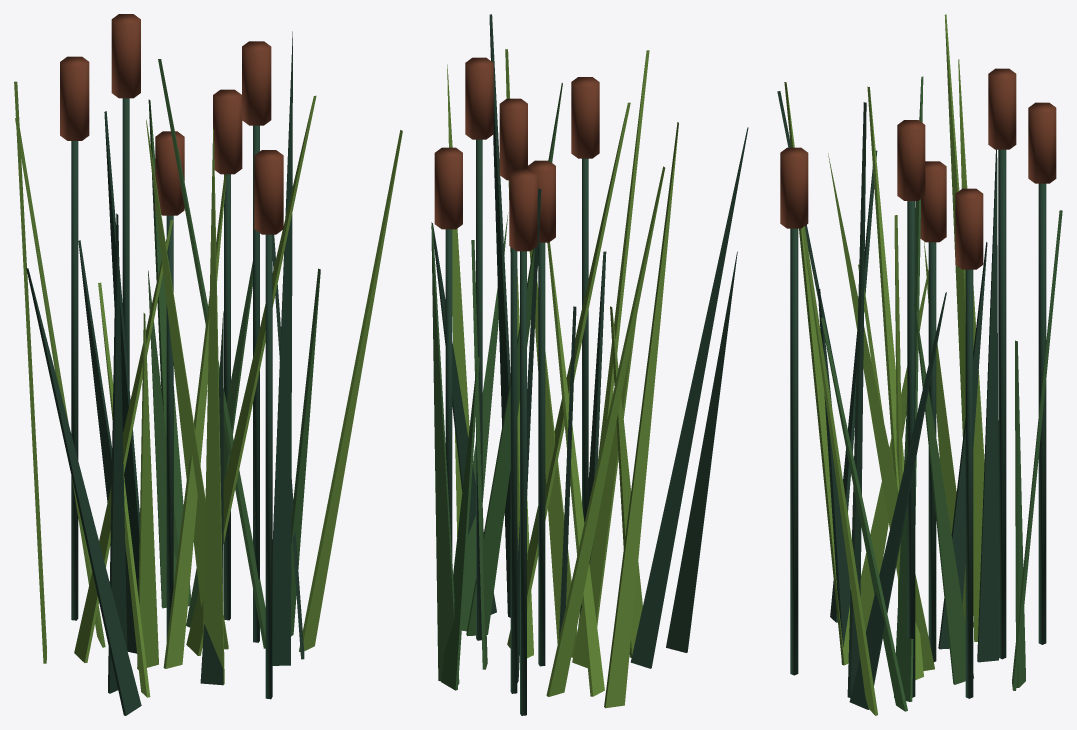
The model's file is reeds.glb.
The picture shows the model from 3 angles, left to right: view 1: azimuth 30°, elevation 25°; view 2: azimuth 150°, elevation 25°; view 3: azimuth 270°, elevation 25°; orthographic projection. The views are drawn at different scales.
Parts seen in each view (by area): view 1: reeds; view 2: reeds; view 3: reeds.
Boxes of the visible parts, x1,y1,x2,y2 form: reeds: (14, 14, 402, 715); reeds: (431, 14, 748, 715); reeds: (777, 14, 1062, 715).
Bounding box in the file's own units: 0.4794 × 0.8495 × 0.3651.
